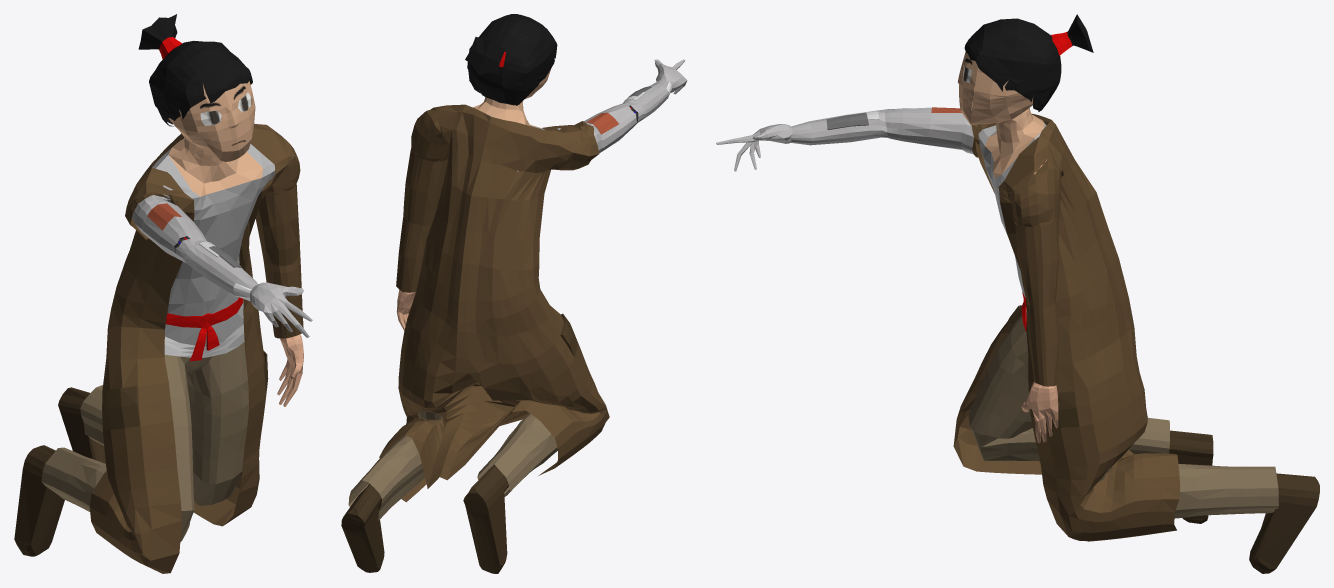
Rendered from One_Die_000029.obj.
The picture shows the model from 3 angles, left to right: view 1: azimuth 30°, elevation 25°; view 2: azimuth 150°, elevation 25°; view 3: azimuth 270°, elevation 25°; orthographic projection. The views are drawn at different scales.
Visible parts, largest first — view 1: Hair_Cube.004; view 2: Hair_Cube.004; view 3: Hair_Cube.004.
Part boxes in pixels (x1=…): Hair_Cube.004: x1=14, y1=14, x2=312, y2=573; Hair_Cube.004: x1=341, y1=14, x2=687, y2=573; Hair_Cube.004: x1=716, y1=14, x2=1319, y2=573.
Size of the model in its own units: 1.16 by 3.03 by 3.08.
